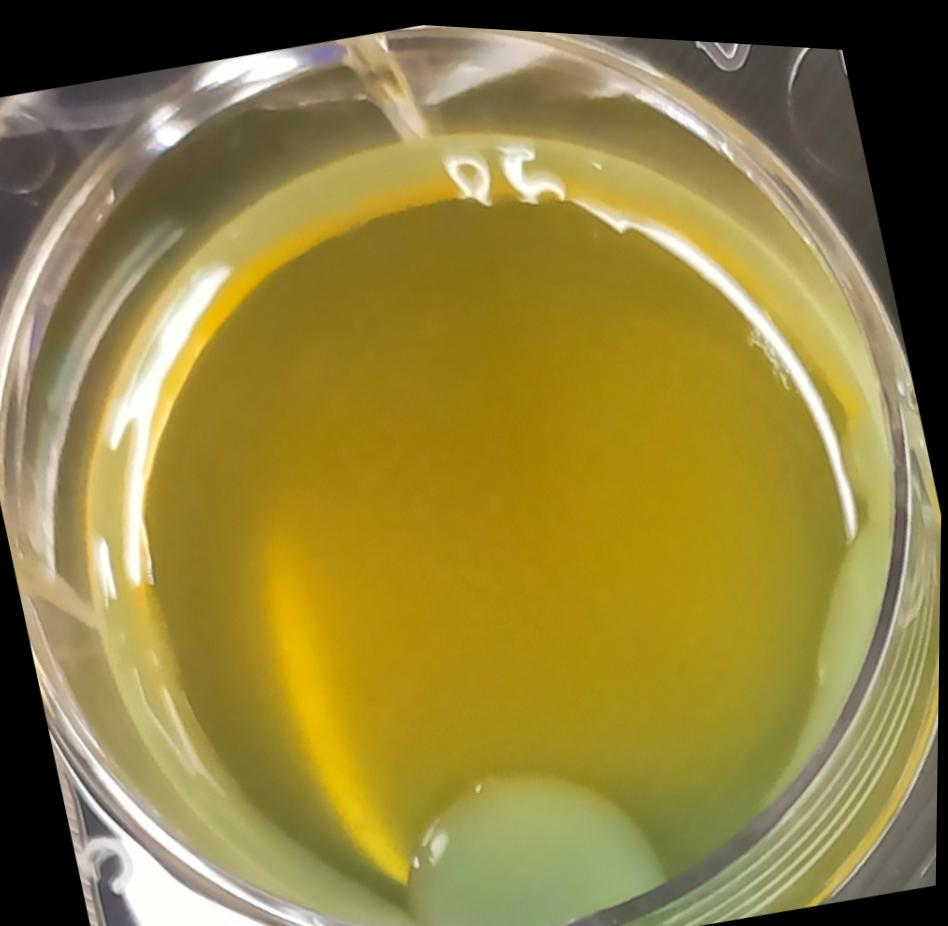valgino: (337, 690, 719, 926)
